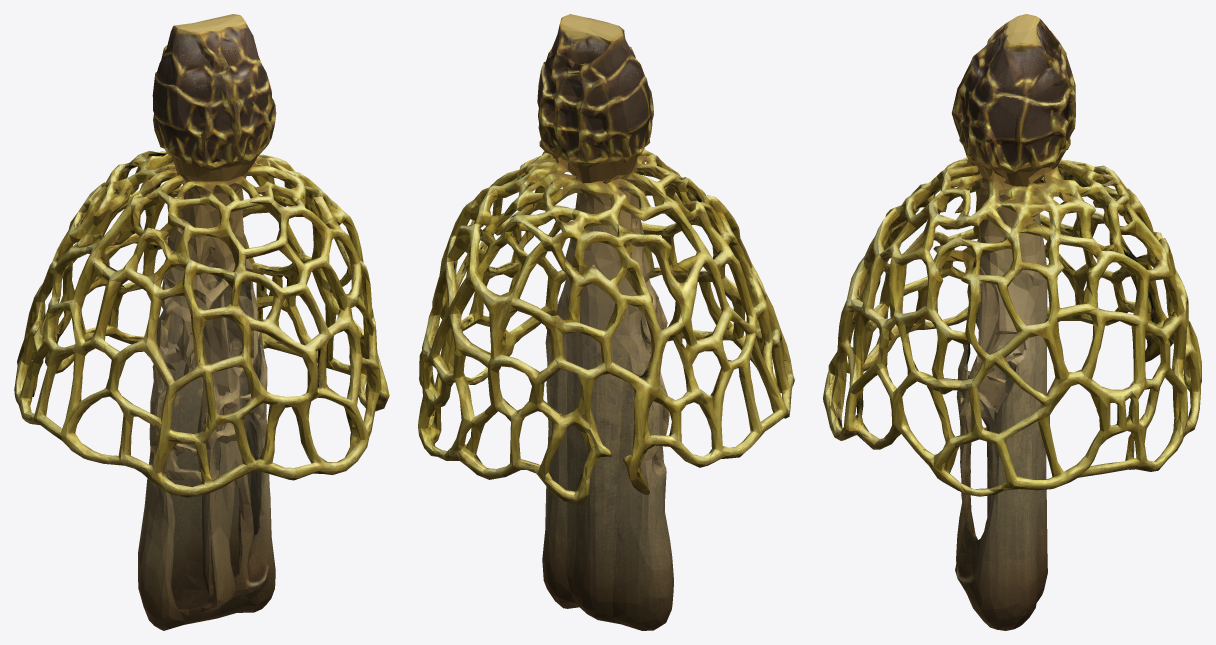
Rendered from phallus.glb.
3 renders of one model, left to right at view 1: azimuth 30°, elevation 25°; view 2: azimuth 150°, elevation 25°; view 3: azimuth 270°, elevation 25°, orthographic.
Visible parts, largest first — view 1: world; view 2: world; view 3: world.
Part boxes in pixels (x1,y1,x2,y2): world: (14,14,389,630); world: (418,14,794,630); world: (823,14,1201,630).
Size of the model in its own units: 0.581 by 1 by 0.5863.
Materials: 1 (1 with a texture image).
